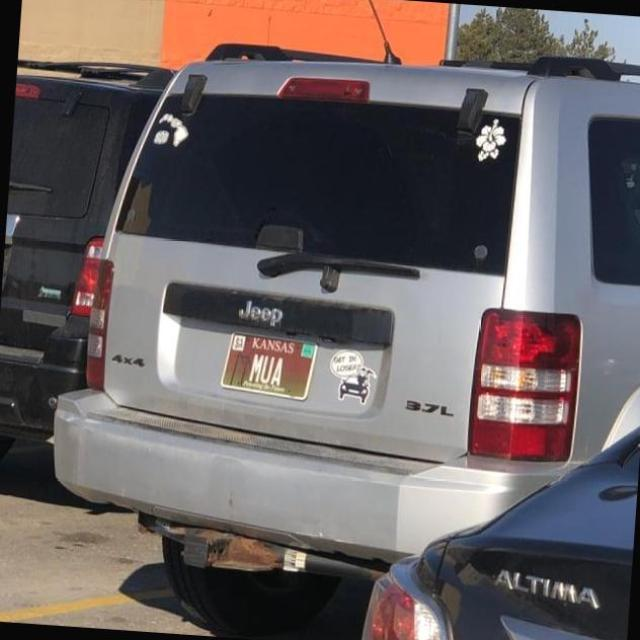license-plate: (201, 327, 340, 404)
